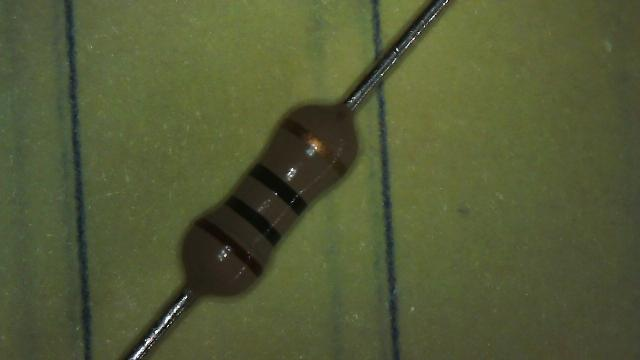black: (248, 161, 309, 217), (225, 201, 276, 242)
brown: (196, 218, 266, 278)
gold: (279, 118, 346, 177)
resistor: (127, 70, 389, 335)
